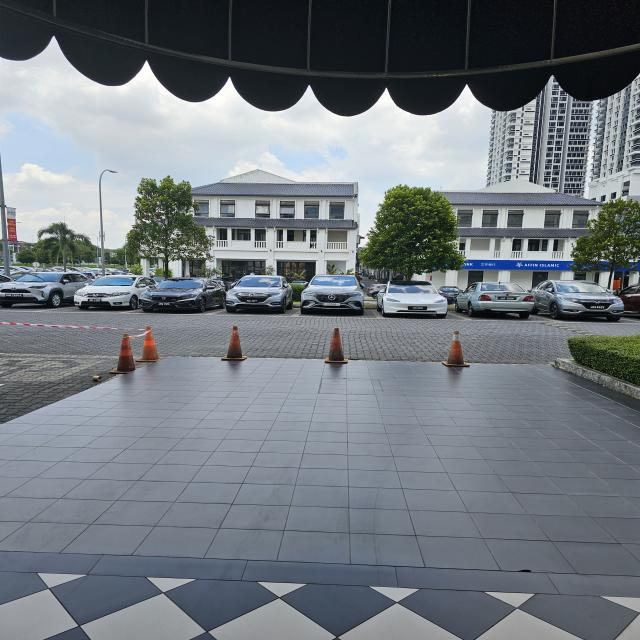footpath: (138, 365, 568, 640)
obstacle: (117, 319, 161, 366), (448, 328, 475, 366), (321, 327, 346, 362), (219, 326, 243, 360)
